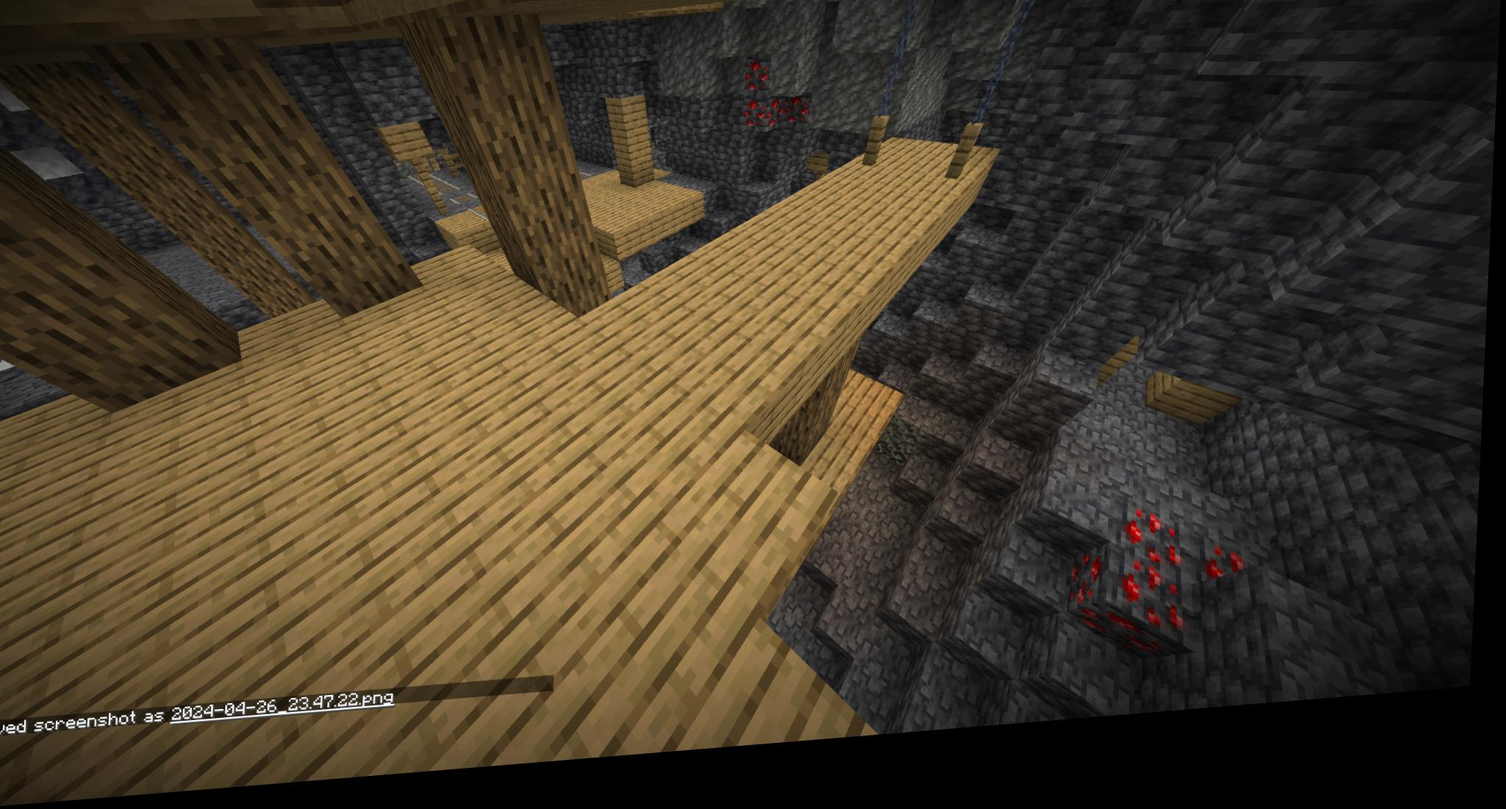redstone ore: (1092, 514, 1257, 664), (745, 71, 809, 144)
